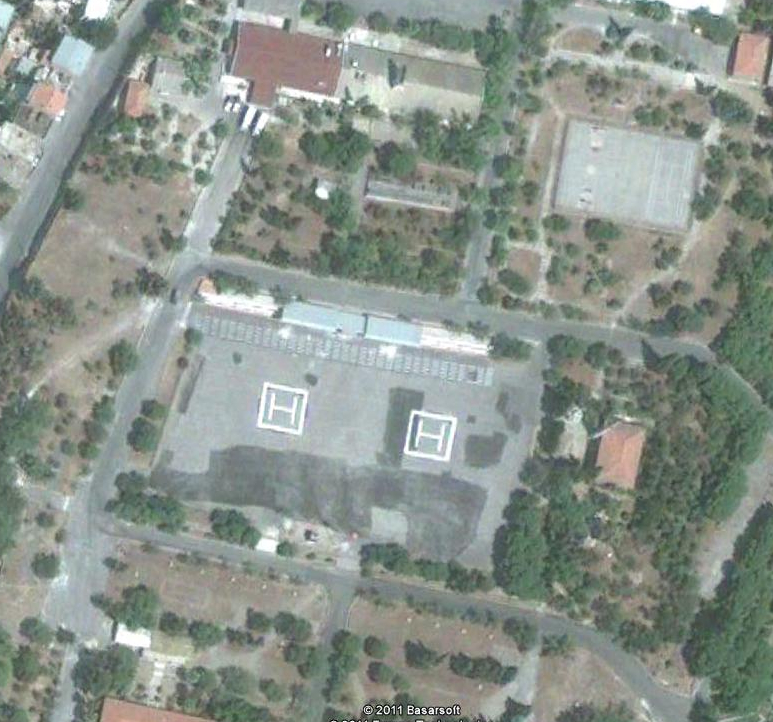heliport: (266, 389, 299, 425), (413, 416, 446, 452)
